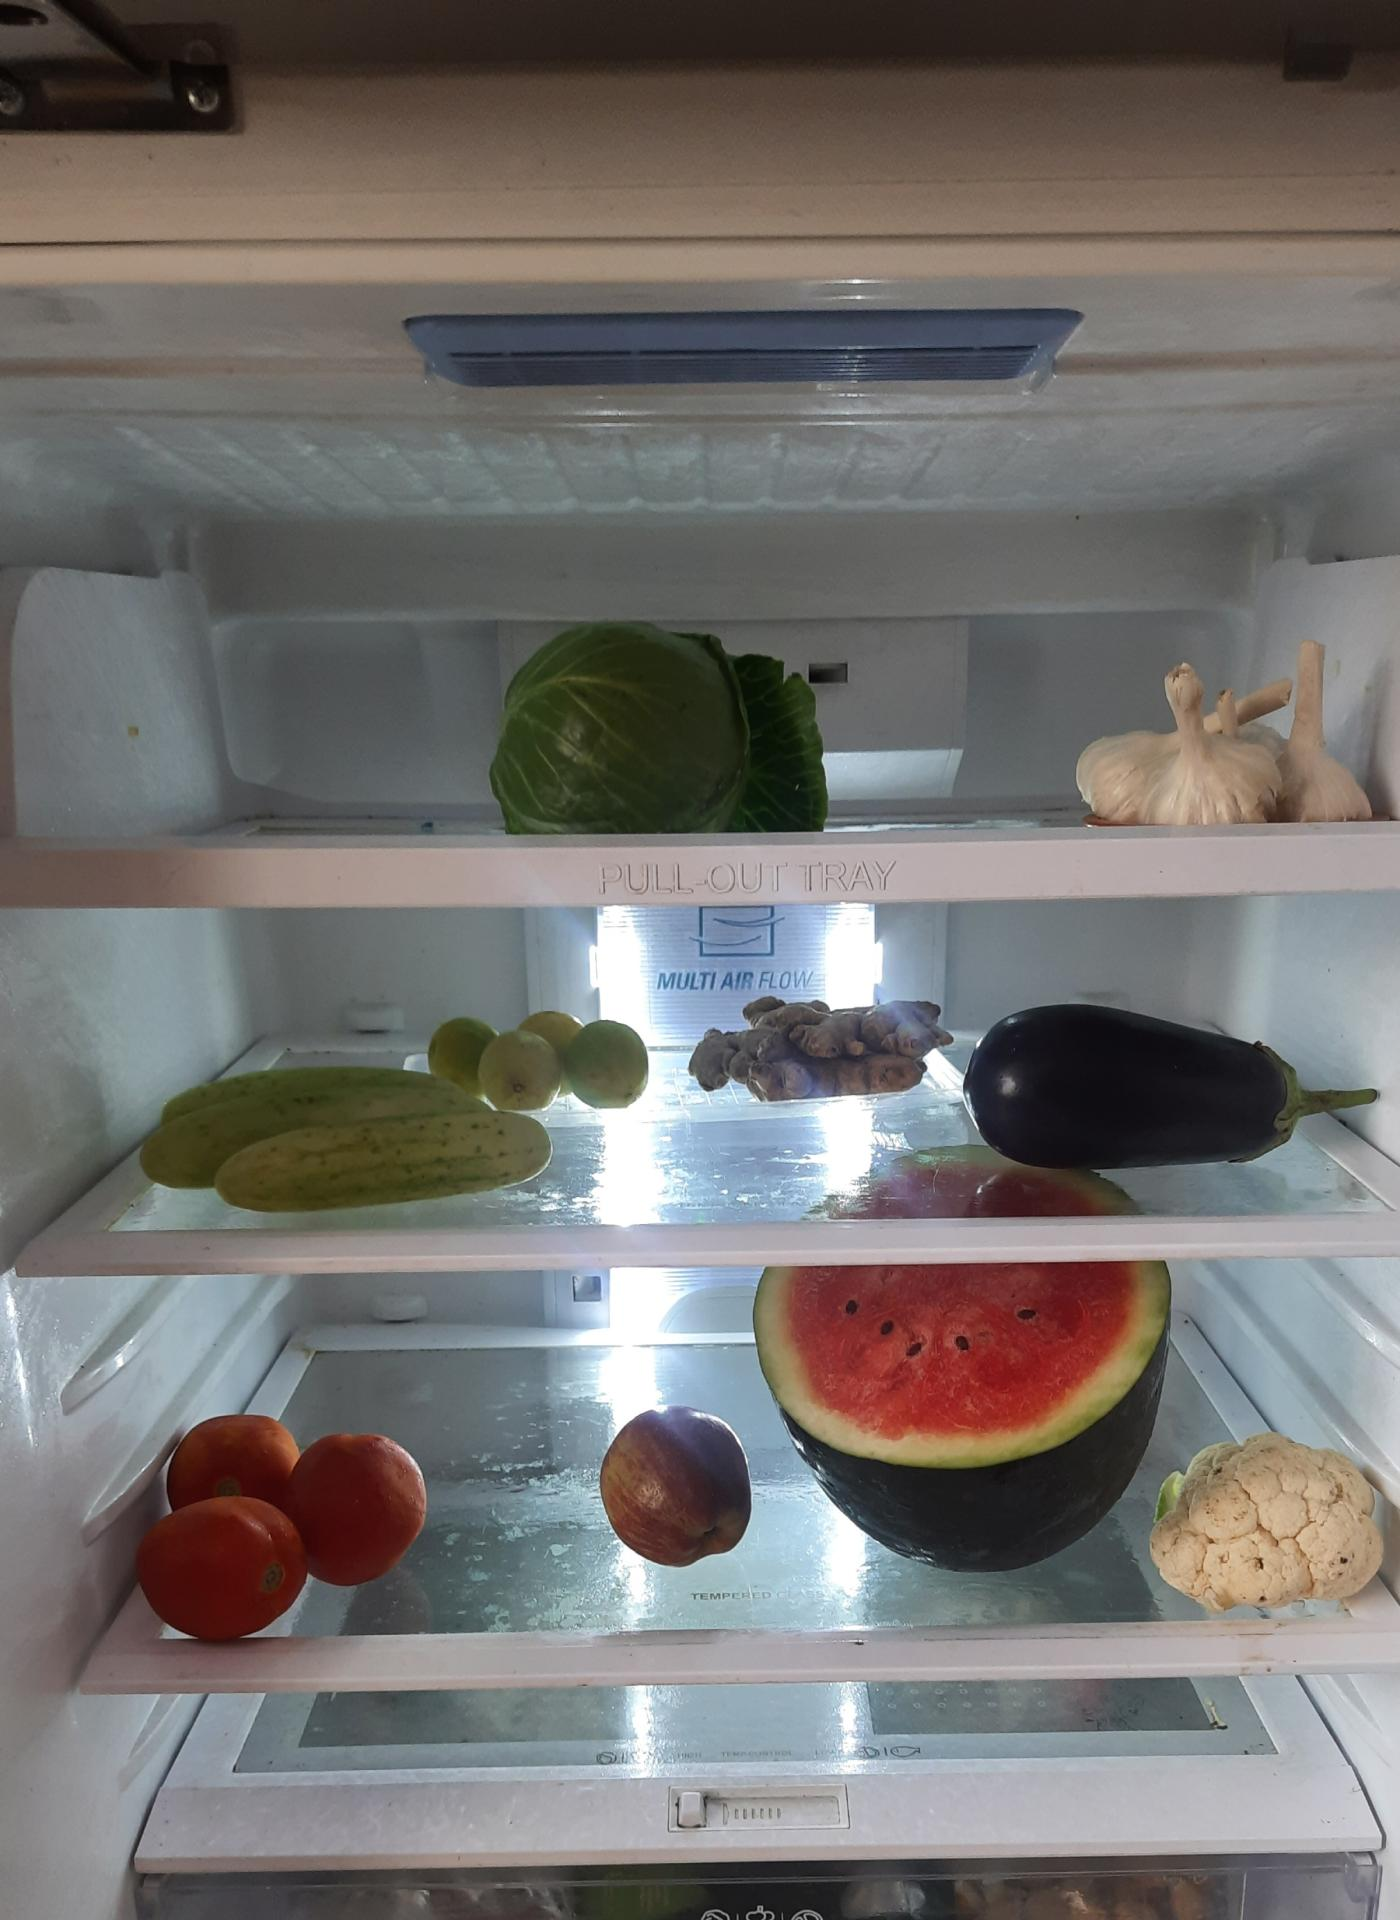apple: (596, 1394, 753, 1568)
brinjal: (960, 1000, 1375, 1167)
cabbage: (479, 619, 822, 830)
cauliflower: (1148, 1427, 1393, 1614)
cucumber: (136, 1055, 558, 1203)
garlic: (1069, 641, 1384, 833)
ginger: (692, 993, 951, 1105)
lemon: (428, 1003, 646, 1097)
tomato: (134, 1409, 431, 1631)
watermelon: (750, 1152, 1176, 1556)
